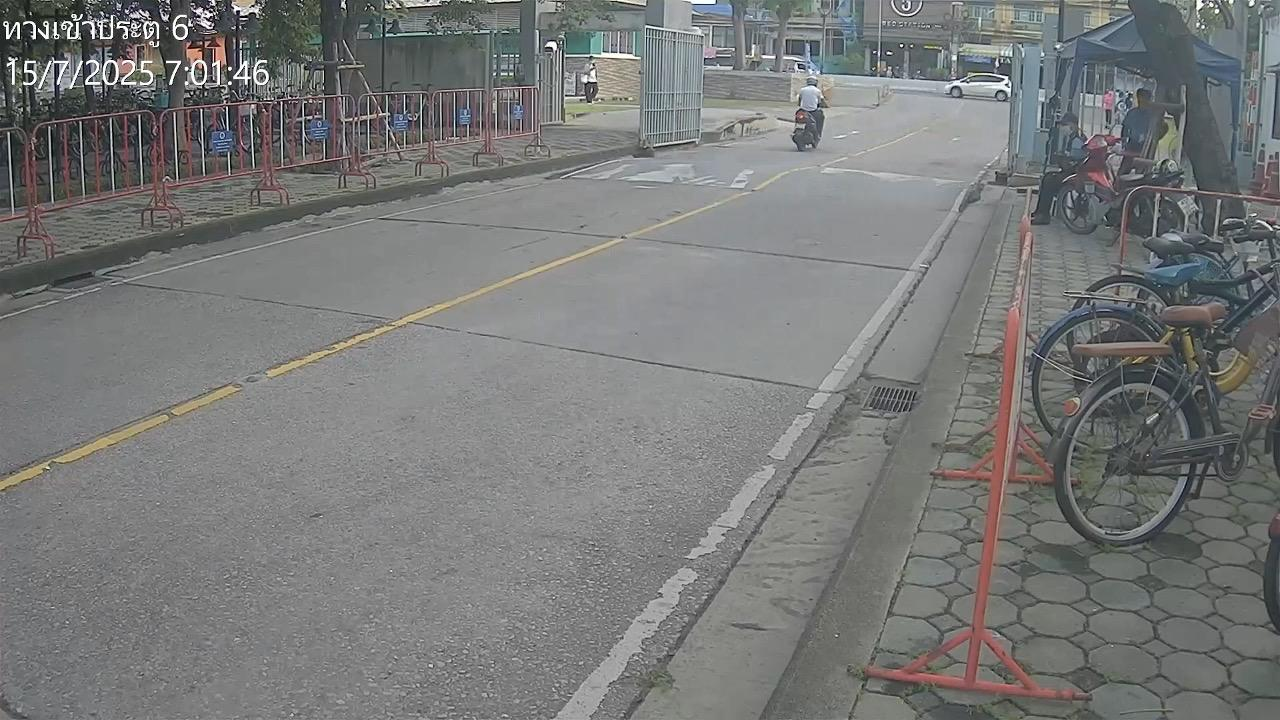With-Helmet: (807, 76, 818, 86)
